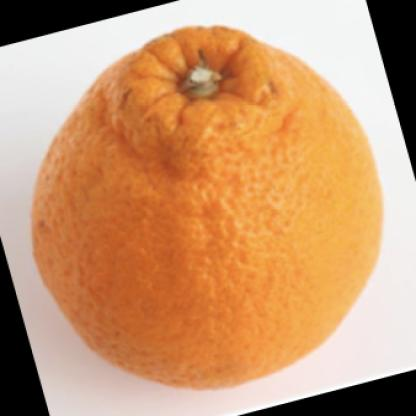fresh: (34, 27, 380, 390)
